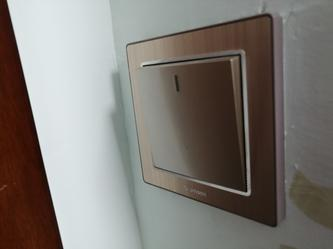switch: (134, 47, 254, 195)
